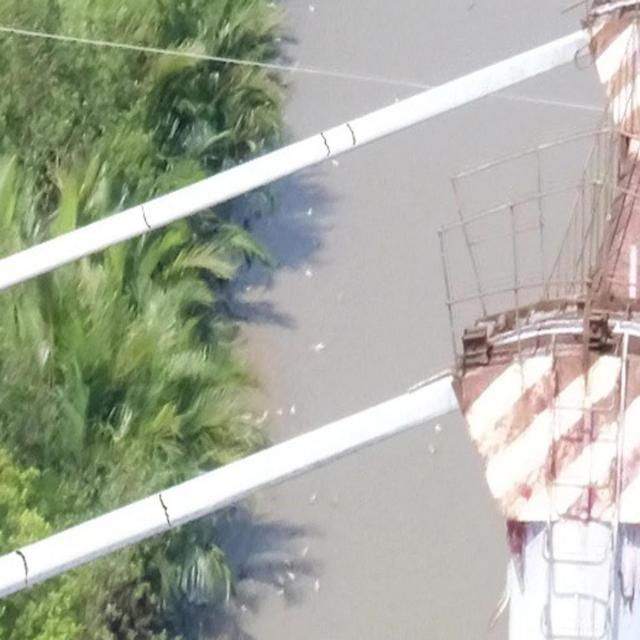crack: (15, 550, 30, 590), (158, 494, 172, 528), (320, 132, 330, 156), (347, 124, 356, 146), (142, 206, 150, 229)
